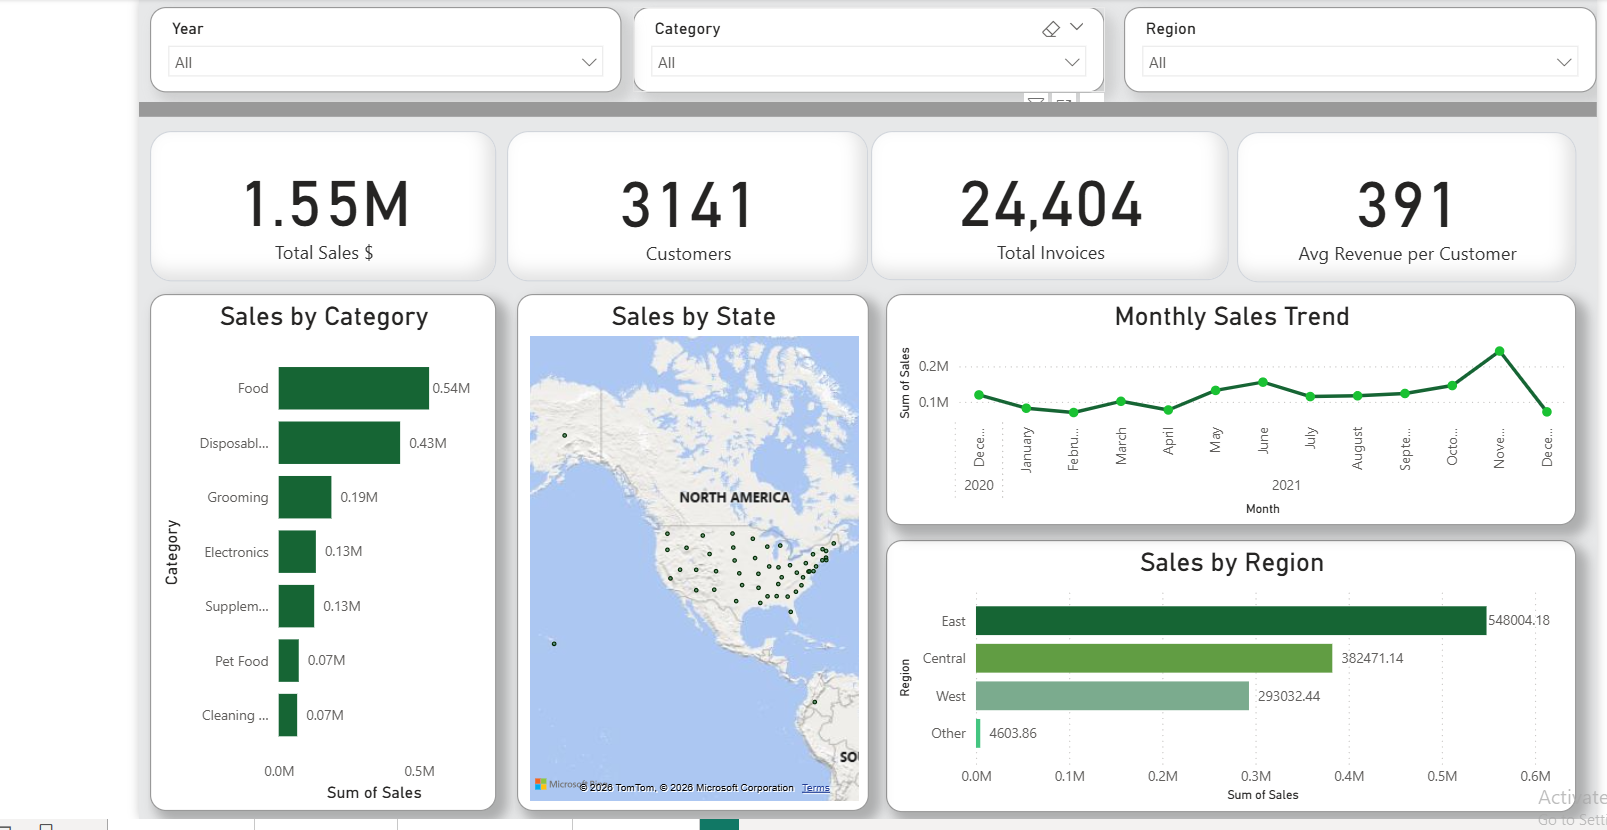

This screenshot's page, from the dashboard's own definition file:
{"tool":"powerbi","page":{"name":"Executive Summary","canvas":[1280,720],"ordinal":0},"visuals":[{"type":"slicer","fields":{"Values":["state_mapping.Region"]},"box":[864.7,6.6,415.3,74.9],"z":0},{"type":"slicer","fields":{"Values":["products.Category"]},"box":[433.8,7,414.4,74.6],"z":1000},{"type":"slicer","fields":{"Values":["Market Basket.Transaction Date.Variation.Date Hierarchy.Year"]},"box":[9.7,7,414.4,74.6],"z":2000},{"type":"card","fields":{"Values":["CountNonNull(sales.Invoice No)"]},"box":[643,116.2,314.1,131],"z":4000},{"type":"card","fields":{"Values":["measure.Customer LTV (avg)"]},"box":[963.8,116.6,297.7,131.6],"z":5000},{"type":"card","fields":{"Values":["measure.Total Sales"]},"box":[9.8,116.2,304.2,131.9],"z":6000},{"type":"card","fields":{"Values":["measure.Number of Customers"]},"box":[322.8,115.7,317.2,132.2],"z":7000},{"type":"shape","box":[0,90.3,1280,13.2],"z":8000},{"type":"clusteredBarChart","title":"Sales by Category","fields":{"Category":["products.Category","sales.Description"],"Y":["Sum(sales.Sales)"]},"box":[9.6,258.9,303.9,454.5],"z":9000},{"type":"clusteredBarChart","title":"Sales by Region","fields":{"Category":["state_mapping.Region"],"Y":["Sum(sales.Sales)"]},"box":[655.8,474.6,606,238.7],"z":10000},{"type":"map","title":"Sales by State","fields":{"Category":["state_mapping.State or Province"],"Size":["measure.Total sales"]},"box":[331.7,258.9,308.7,454.5],"z":11000},{"type":"lineChart","title":"Monthly Sales Trend","fields":{"Y":["Sum(sales.Sales)"],"Category":["sales.Transaction Date.Variation.Date Hierarchy.Year","sales.Year Month.Variation.Date Hierarchy.Month"]},"box":[655.8,258.9,606,203.3],"z":12000}]}

Visuals, with their boxes on the page's 1280x720 design canvas (x1, y1, x2, y2). These are canvas units, not pixel positions in the 1607x830 screenshot, which may show the page scaled, cropped or inside an application window:
slicer - state_mapping.Region: crop(865, 7, 1280, 82)
slicer - products.Category: crop(434, 7, 848, 82)
slicer - Market Basket.Transaction Date.Variation.Date Hierarchy.Year: crop(10, 7, 424, 82)
card - CountNonNull(sales.Invoice No): crop(643, 116, 957, 247)
card - measure.Customer LTV (avg): crop(964, 117, 1262, 248)
card - measure.Total Sales: crop(10, 116, 314, 248)
card - measure.Number of Customers: crop(323, 116, 640, 248)
shape: crop(0, 90, 1280, 104)
"Sales by Category" clusteredBarChart: crop(10, 259, 314, 713)
"Sales by Region" clusteredBarChart: crop(656, 475, 1262, 713)
"Sales by State" map: crop(332, 259, 640, 713)
"Monthly Sales Trend" lineChart: crop(656, 259, 1262, 462)
